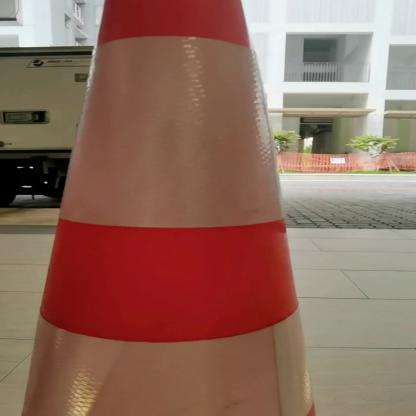cone: (14, 0, 320, 416)
